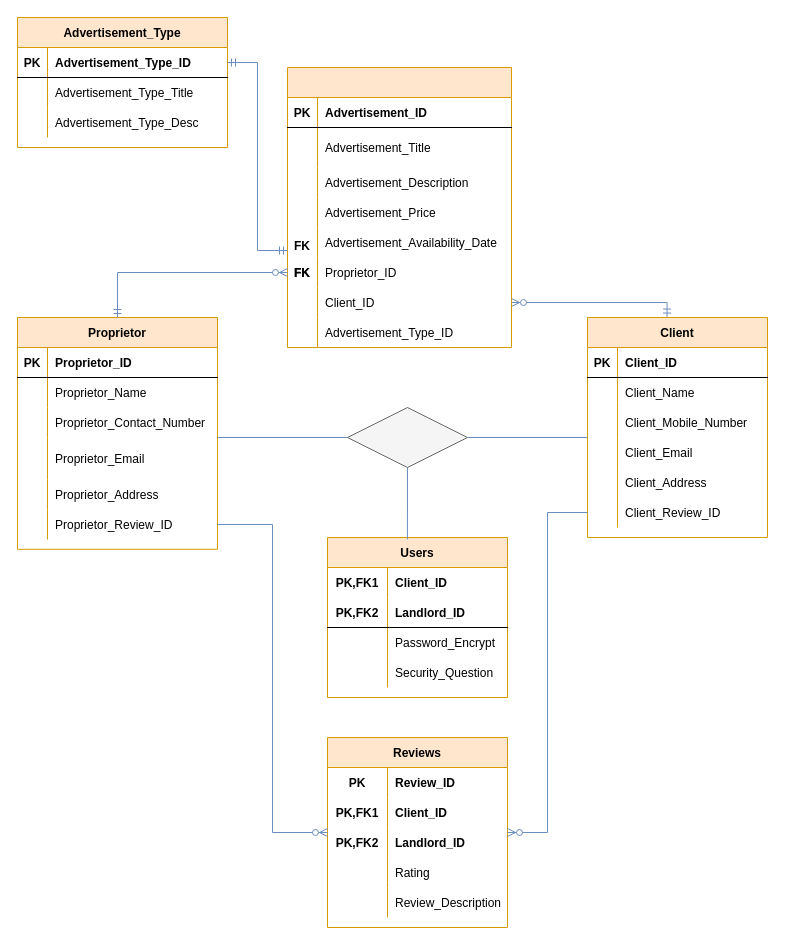
This 785x945 diagram has some shape labels left out. The shapes that lost their labels are listed below. From the top down, each one's box as (x1, y1, x2, y2) in pixels, then its label:
(286, 66, 512, 348): Property_Advertisements
(346, 406, 468, 468): Has
